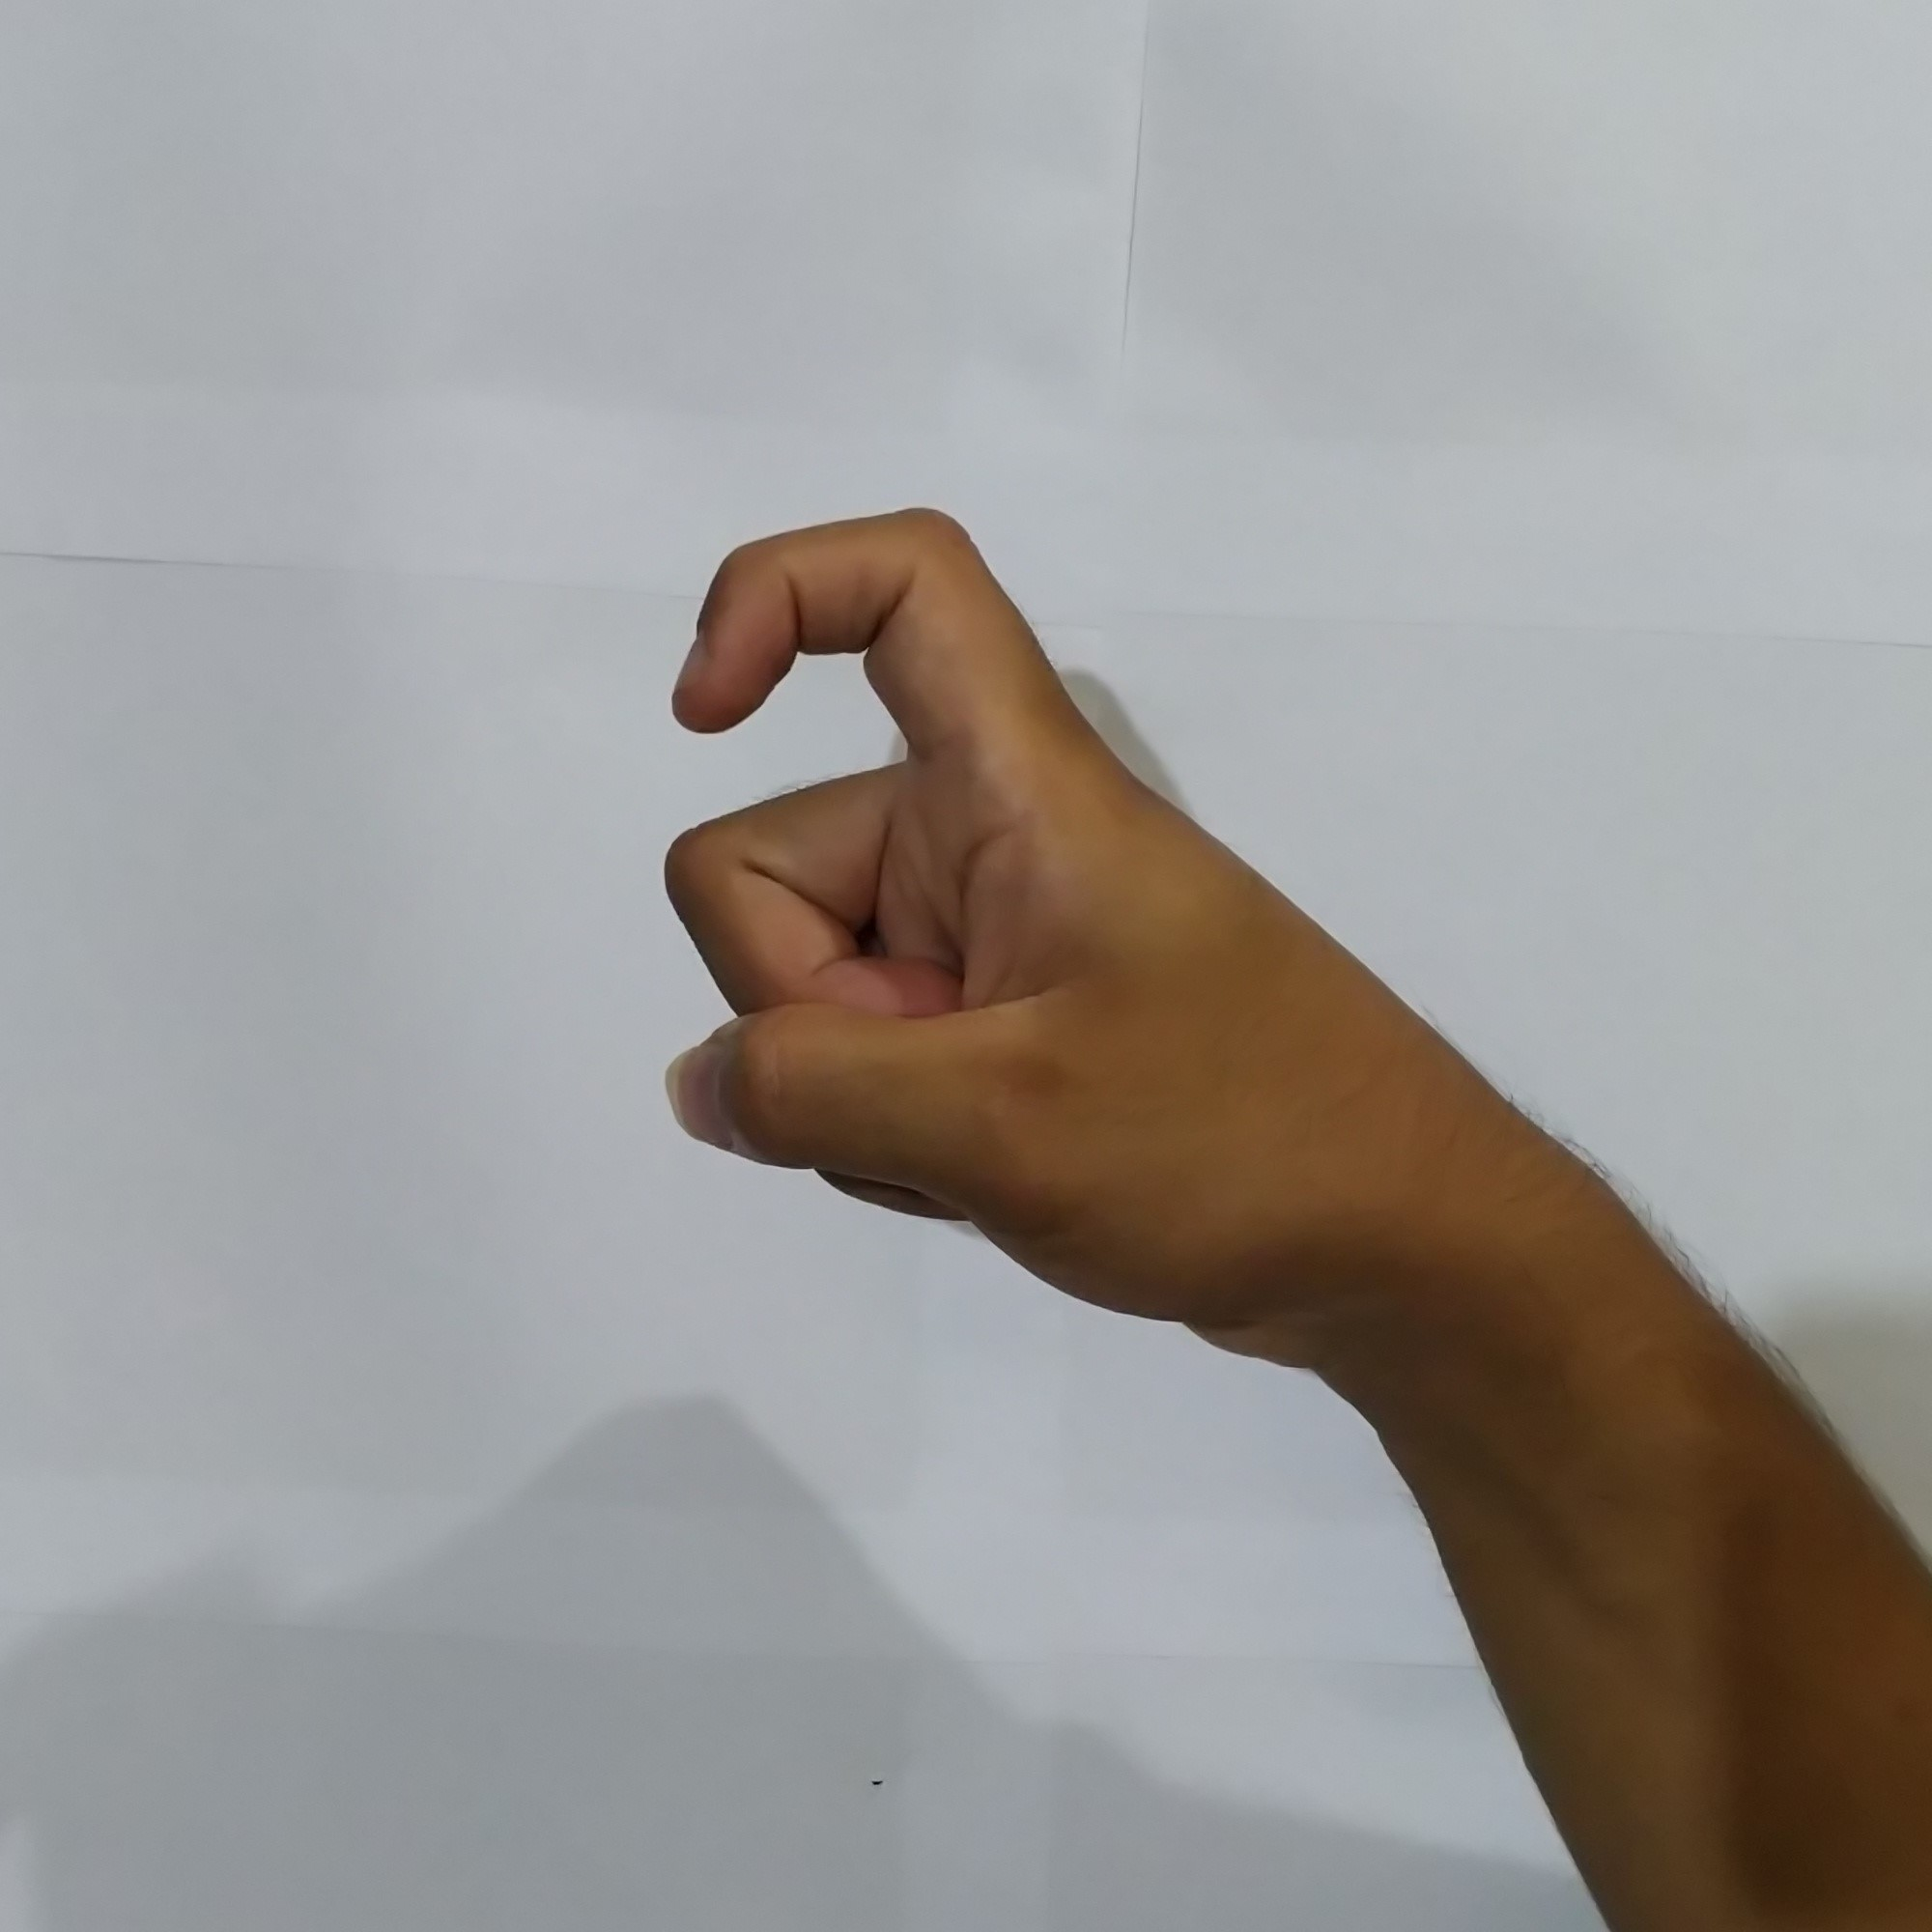X: (626, 483, 1562, 1380)
